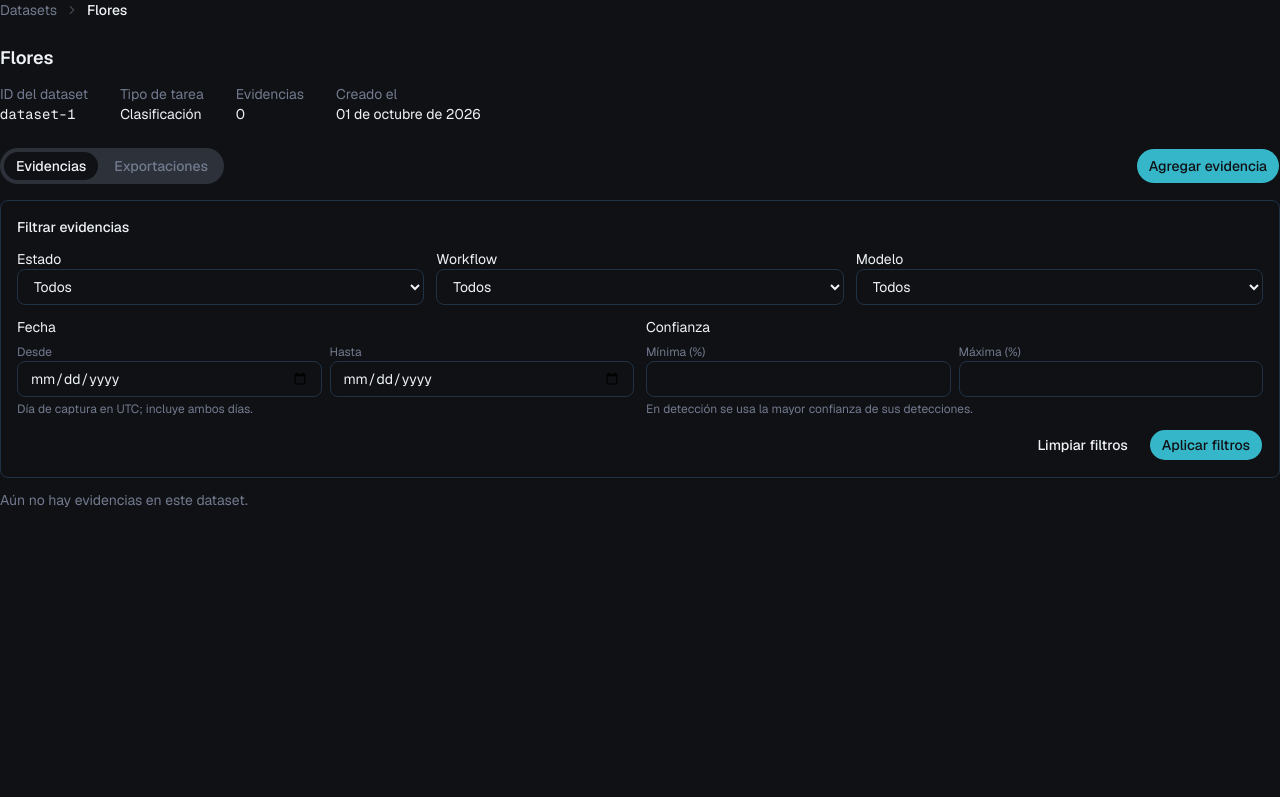
Scenario: DatasetDetailView › lets an administrator add selected evidence and shows its original prediction
Expected: the heading "Flores" is shown, [0, 46, 53, 69]
Click the button "Agregar evidencia". click: (1208,166)
box: [1136, 148, 1279, 184]
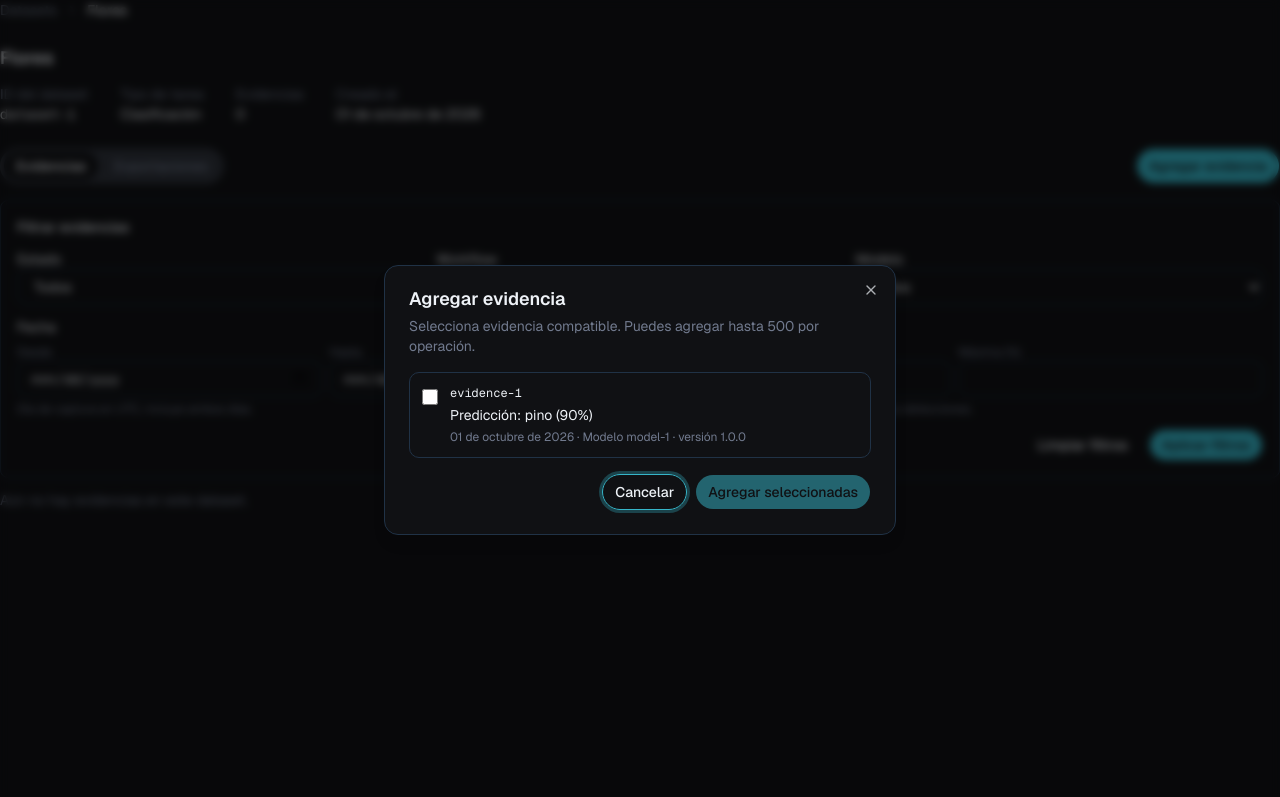
Expected: the text "Predicción: pino (90%)" is shown, [450, 406, 592, 424]
Click the checkbox. click: (430,397)
box: [422, 389, 438, 405]
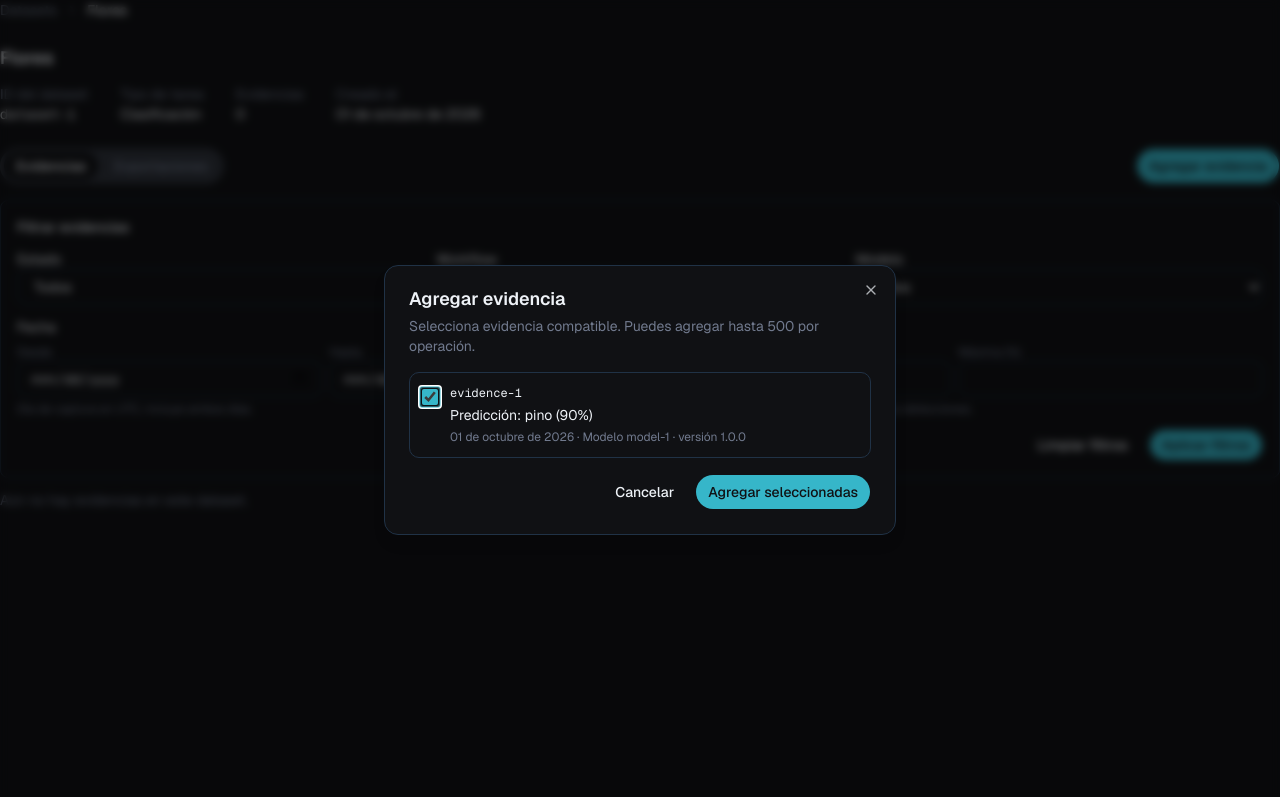
Click the button "Agregar seleccionadas". click: (783,492)
box: [695, 474, 871, 510]
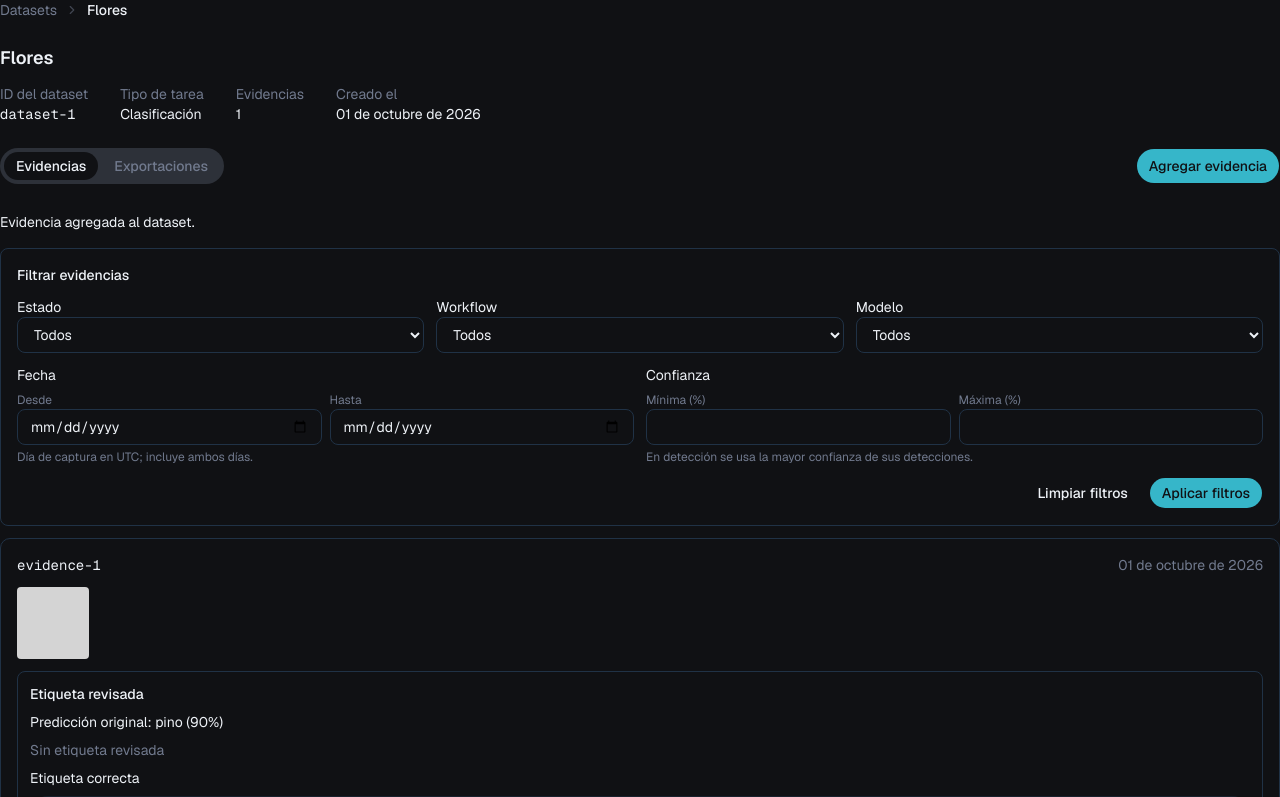
Expected: the text "Predicción original: pino (90%)" is shown, [30, 713, 223, 731]
Expected: the text "Evidencia agregada al dataset." is shown, [0, 213, 195, 231]
